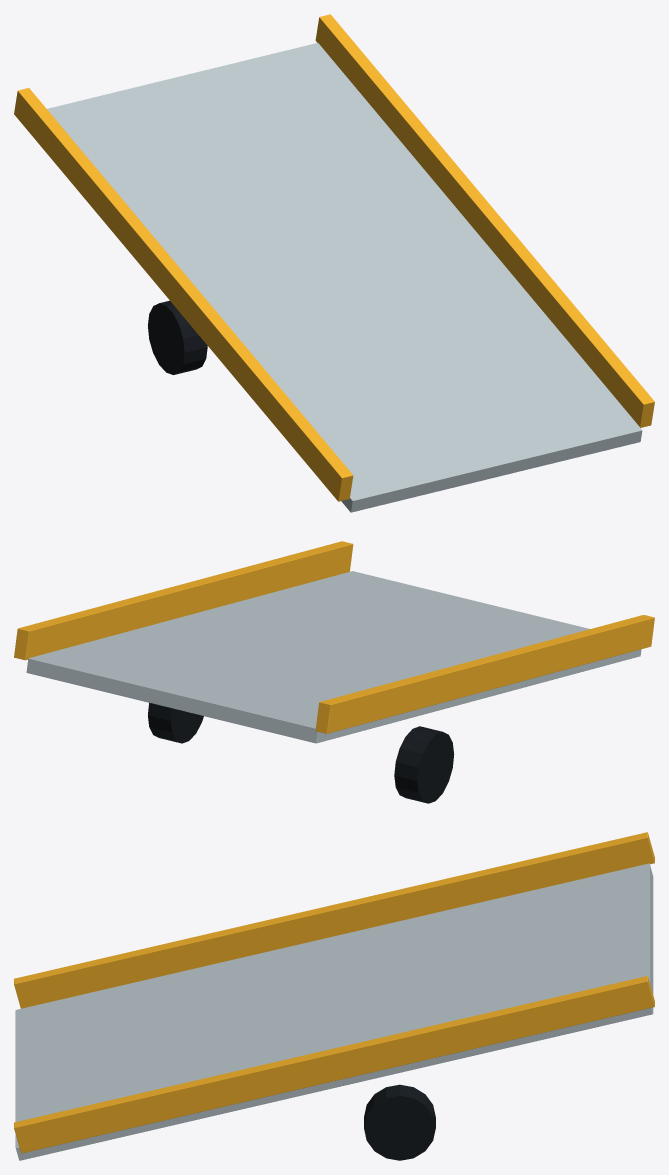
3 renders of one model, top to bottom at view 1: azimuth 30°, elevation 25°; view 2: azimuth 150°, elevation 25°; view 3: azimuth 270°, elevation 25°, orthographic. The views are drawn at different scales.
Parts seen in each view (by area): view 1: RAMP_Deck, GUARD, GUARD.001, WHEEL; view 2: RAMP_Deck, GUARD, GUARD.001, WHEEL, WHEEL.001; view 3: RAMP_Deck, GUARD.001, GUARD, WHEEL.001.
Boxes of the visible parts, bbox=[...] form: RAMP_Deck: bbox=[47, 43, 642, 512]; GUARD: bbox=[14, 88, 353, 501]; GUARD.001: bbox=[315, 14, 654, 427]; WHEEL: bbox=[148, 300, 207, 374]; RAMP_Deck: bbox=[26, 571, 641, 743]; GUARD: bbox=[315, 615, 654, 733]; GUARD.001: bbox=[14, 541, 353, 660]; WHEEL: bbox=[394, 726, 454, 803]; WHEEL.001: bbox=[148, 703, 203, 743]; RAMP_Deck: bbox=[15, 863, 653, 1160]; GUARD.001: bbox=[14, 976, 654, 1153]; GUARD: bbox=[14, 832, 654, 1008]; WHEEL.001: bbox=[364, 1084, 435, 1160].
Bounding box in the file's own units: 2.16 × 1.28 × 3.92.
